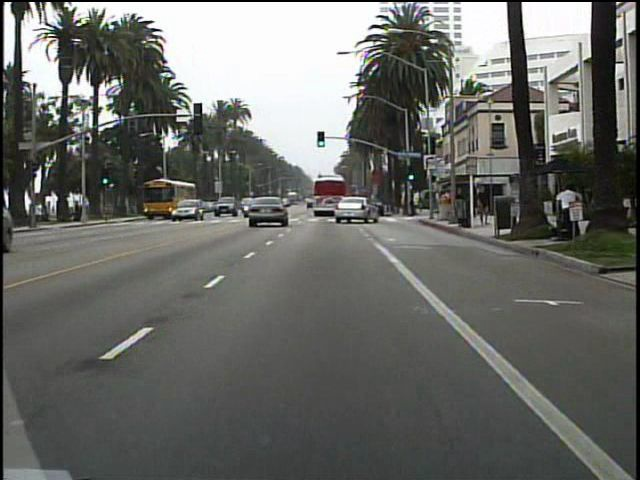person: (555, 178, 583, 243), (477, 181, 493, 229), (454, 184, 471, 223), (437, 184, 451, 220)
